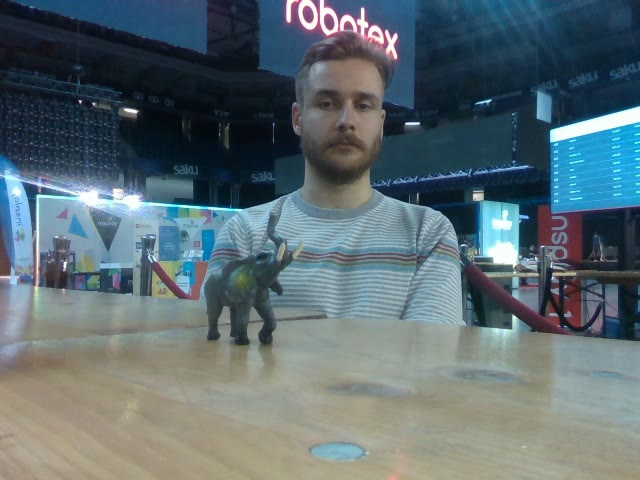toy: (204, 213, 304, 345)
